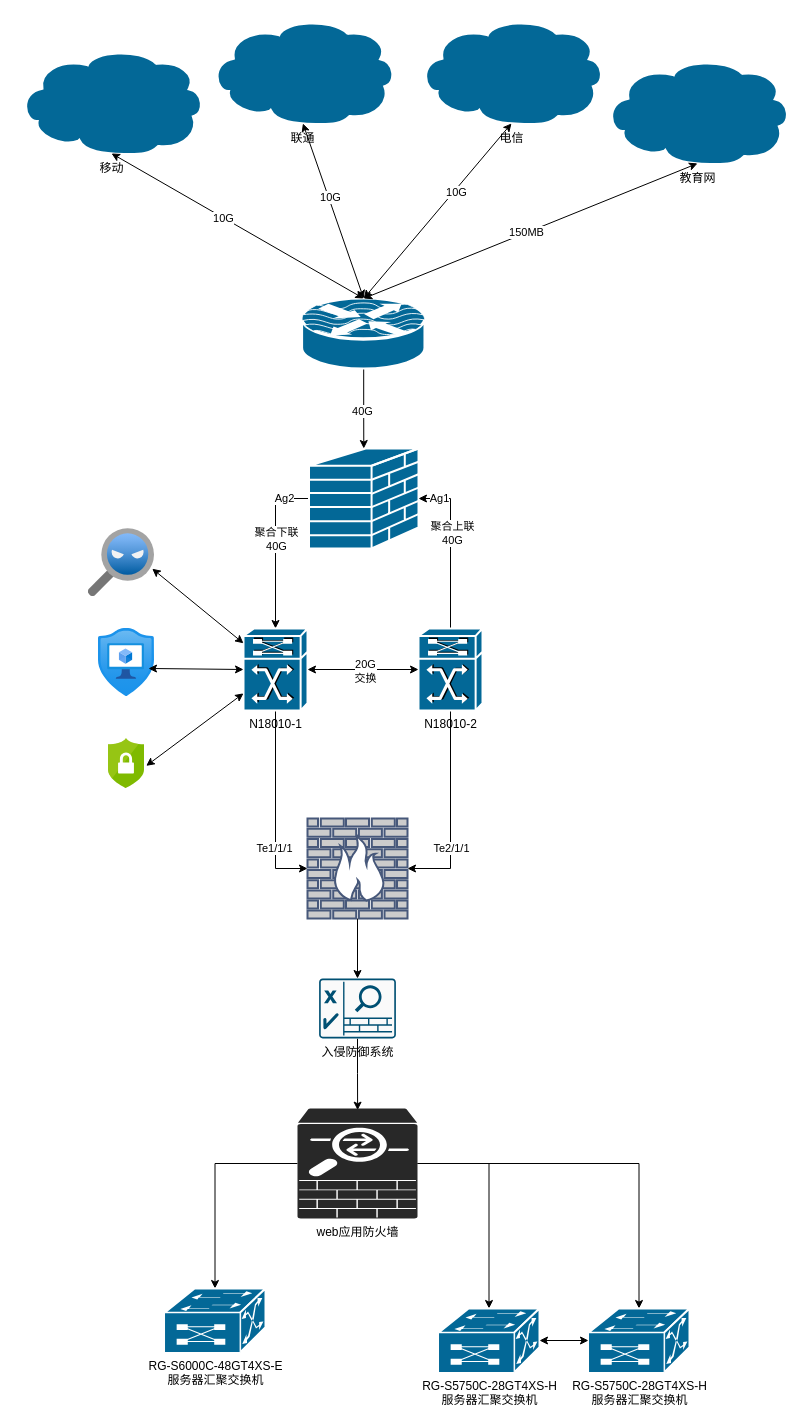
This 808x1425 diagram has some shape labels left out. The centre of each missing label's shape, as x and y in pixels:
"RG-WALL 1600-X9500 防火墙" goes at point 363,498.
"RSR-7708 出口路由器" goes at point 363,333.
"天融信上网行为管理" goes at point 126,662.
"天融信日志审计虚拟机" goes at point 126,763.
"天融信漏扫" goes at point 121,562.
"天融信防火墙" goes at point 357,868.
